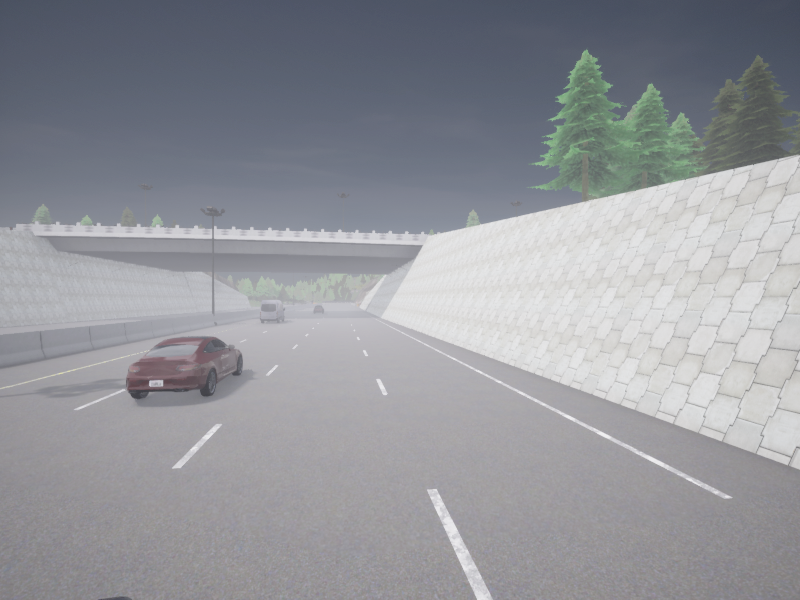vehicle: (126, 336, 242, 398), (260, 300, 284, 322), (97, 596, 131, 599), (314, 305, 323, 313)
